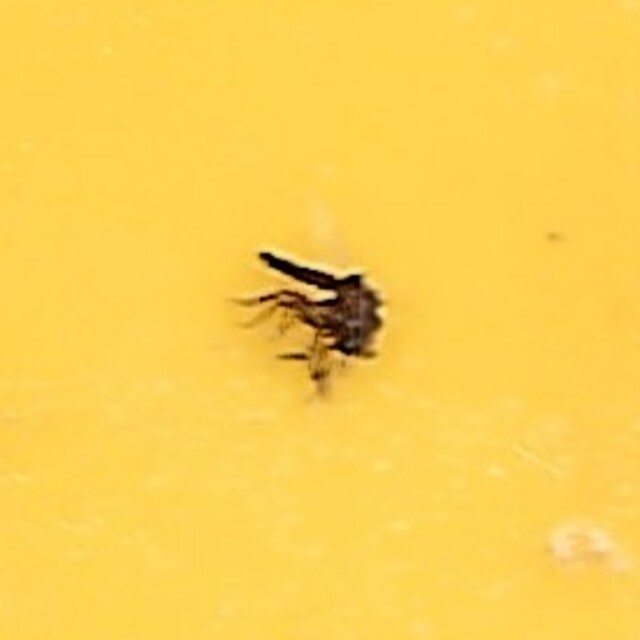Nematocera: (232, 243, 408, 397)
